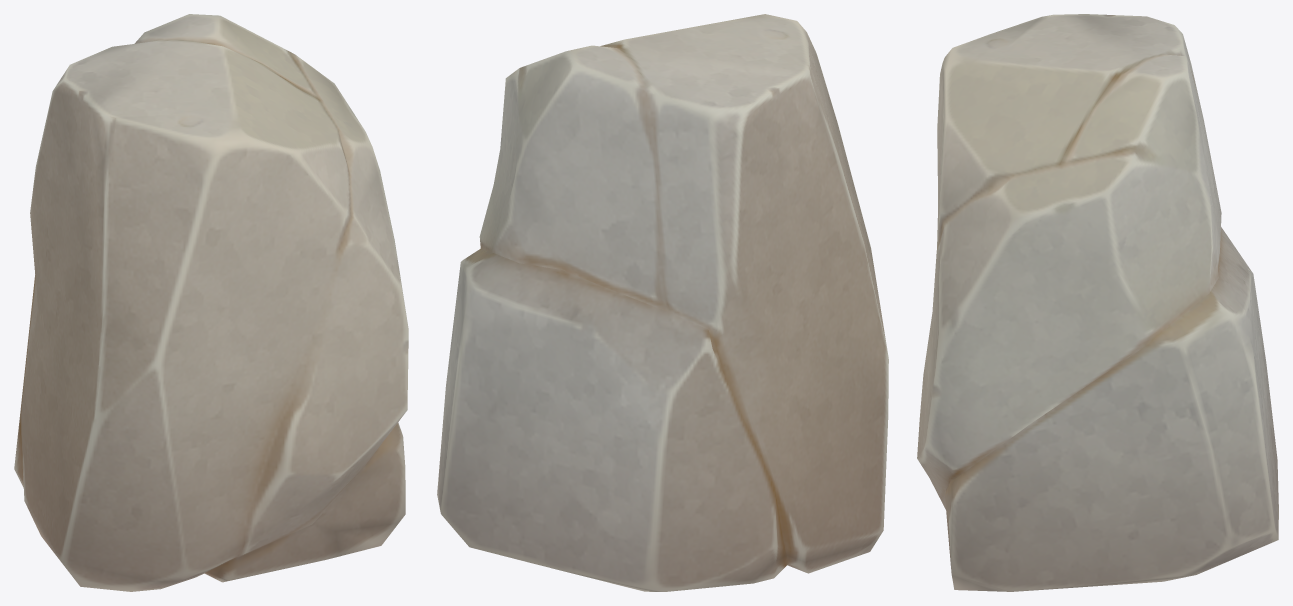
Rendered from rock3.gltf.
3 renders of one model, left to right at view 1: azimuth 30°, elevation 25°; view 2: azimuth 150°, elevation 25°; view 3: azimuth 270°, elevation 25°, orthographic. The views are drawn at different scales.
Visible parts, largest first — view 1: Rock8; view 2: Rock8; view 3: Rock8.
Part boxes in pixels (box(x1,y1,x2,y2)): Rock8: box(14, 14, 408, 591); Rock8: box(437, 14, 888, 591); Rock8: box(917, 14, 1278, 591).
Size of the model in its own units: 0.8819 by 1.25 by 0.8484.
1 material, 1 textured.
